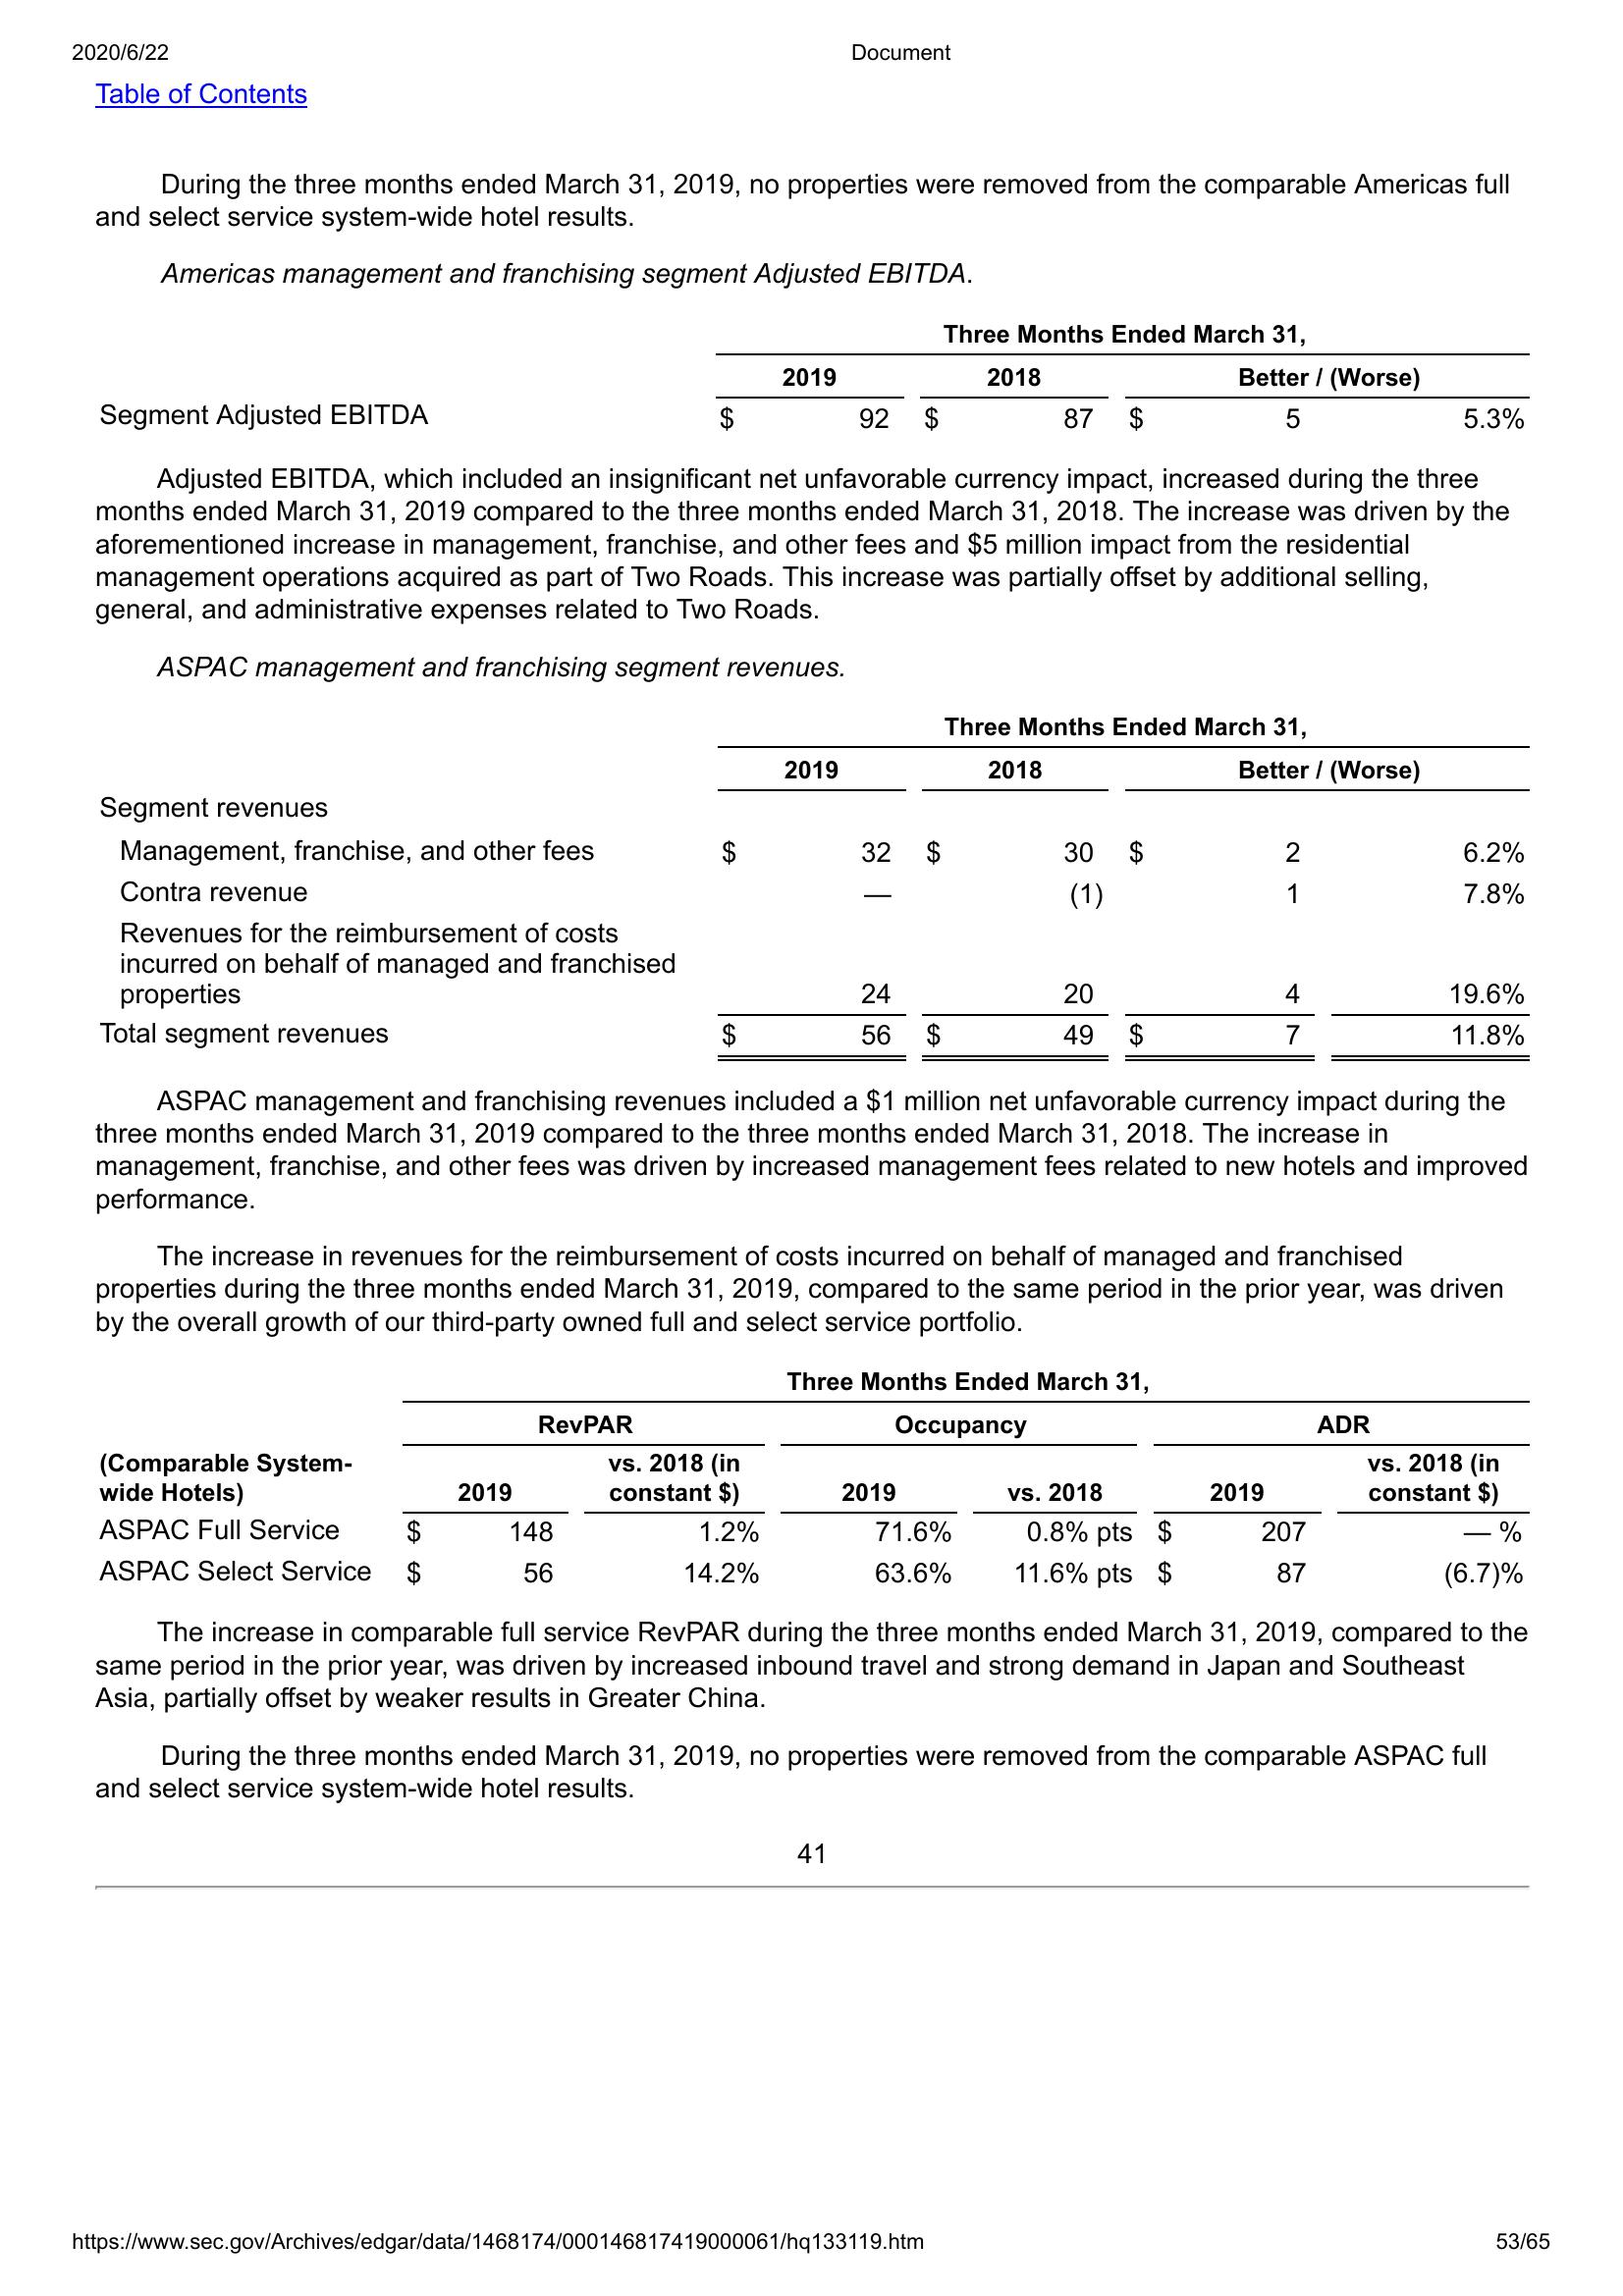table: (88, 709, 1546, 1067), (88, 1360, 1539, 1597), (90, 307, 1540, 446)
